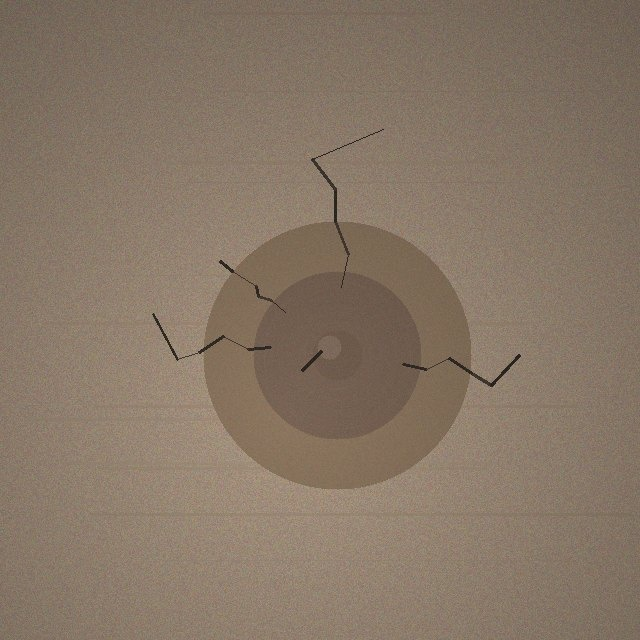crack: (203, 221, 471, 489)
